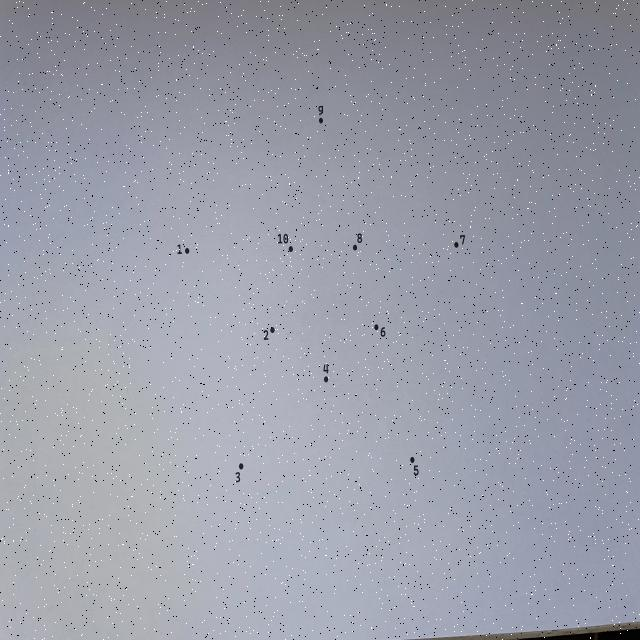Dot: (238, 463, 244, 470), (184, 248, 190, 254), (352, 244, 358, 250), (454, 241, 459, 248), (410, 456, 415, 463), (288, 246, 293, 252), (270, 327, 275, 333), (374, 324, 379, 330), (324, 376, 328, 383), (319, 118, 323, 124)
DotNumber: (278, 233, 293, 253), (235, 463, 244, 483), (410, 456, 419, 476), (352, 233, 362, 250), (263, 326, 275, 340), (374, 324, 386, 337), (177, 244, 190, 255), (454, 235, 465, 248), (323, 363, 329, 383), (318, 105, 323, 124)
Number: (278, 233, 288, 244), (323, 363, 329, 375), (235, 472, 241, 483), (380, 326, 386, 337), (413, 465, 419, 476), (263, 330, 269, 340), (177, 244, 182, 255), (357, 233, 362, 243), (460, 235, 465, 245), (318, 106, 323, 115)
